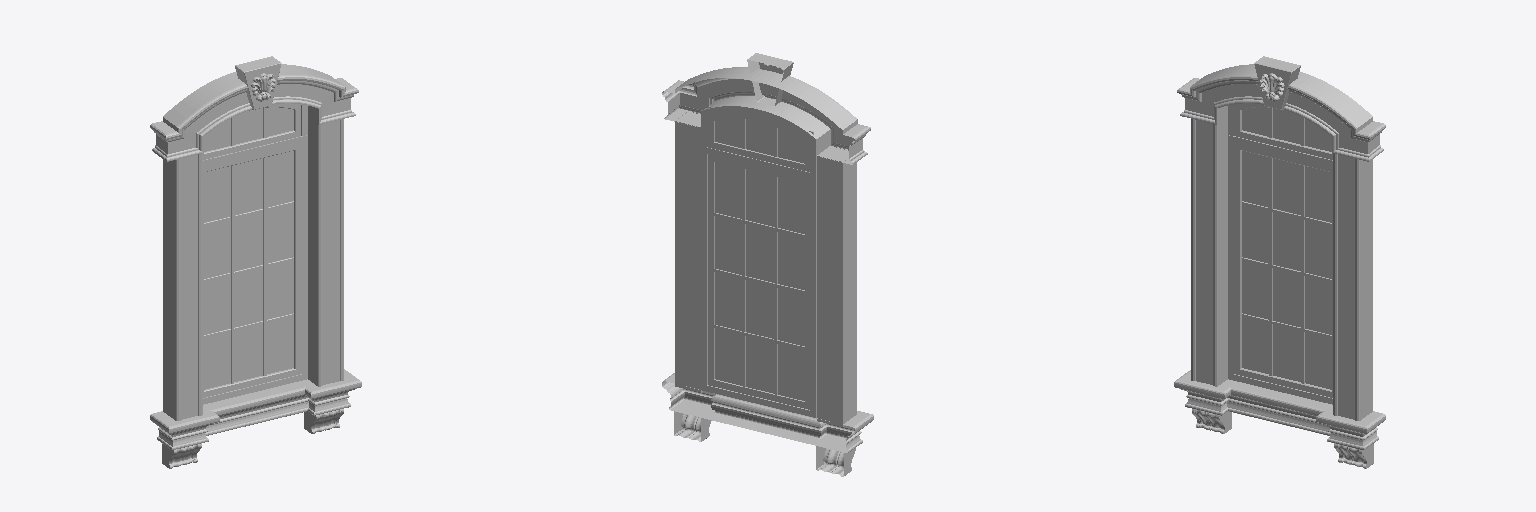
Rendered from 039_Window_high poly.obj.
The picture shows the model from 3 angles: view 1: azimuth 30°, elevation 25°; view 2: azimuth 150°, elevation 25°; view 3: azimuth 330°, elevation 25°; orthographic projection.
Visible parts, largest first — view 1: window; view 2: window; view 3: window.
Boxes of the visible parts, x1,y1,x2,y2 form: window: [150, 56, 361, 468]; window: [662, 53, 873, 476]; window: [1174, 56, 1385, 468].
Size of the model in its own units: 1459 by 2792 by 251.